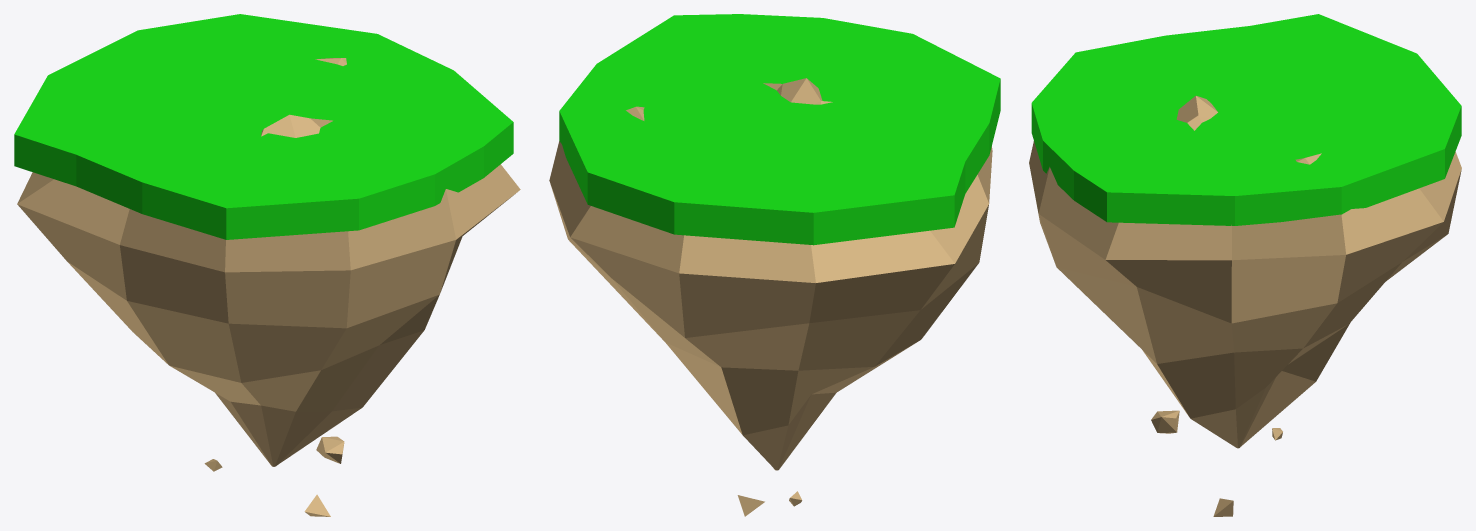
The model's file is LowPolyIsland.fbx.
3 views of the same model, side by side, from view 1: azimuth 30°, elevation 25°; view 2: azimuth 150°, elevation 25°; view 3: azimuth 270°, elevation 25° (orthographic). The views are drawn at different scales.
Parts seen in each view (by area): view 1: Green_platform, Island; view 2: Green_platform, Island; view 3: Green_platform, Island.
Part boxes in pixels (x1,y1,x2,y2): Green_platform: [14, 14, 513, 239]; Island: [17, 58, 520, 516]; Green_platform: [559, 14, 1000, 245]; Island: [549, 78, 992, 516]; Green_platform: [1031, 14, 1461, 225]; Island: [1029, 96, 1461, 516].
Size of the model in its own units: 105 by 107 by 104.
